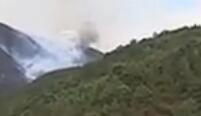yanwu: (0, 1, 100, 79)
